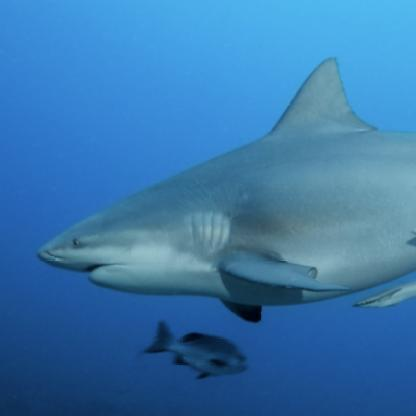Shark -Selachimorpha-: (33, 56, 416, 322)
